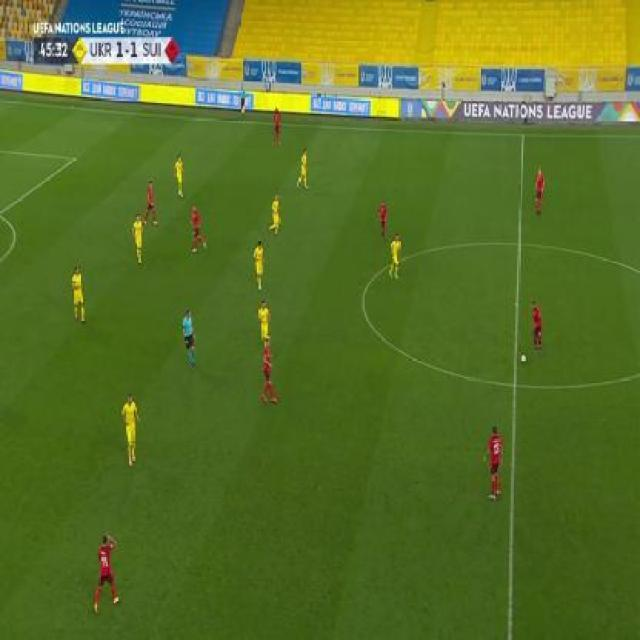ball: (520, 352, 526, 363)
player: (91, 532, 120, 614), (482, 423, 504, 500), (120, 390, 140, 469), (261, 337, 278, 406), (70, 263, 87, 325), (181, 307, 197, 369), (528, 298, 544, 354), (256, 300, 272, 353), (143, 178, 160, 227), (190, 203, 206, 254), (252, 239, 266, 290), (131, 212, 144, 265), (295, 146, 311, 189), (389, 232, 403, 280), (534, 167, 547, 216), (268, 192, 282, 237), (172, 153, 185, 198), (377, 198, 390, 241), (271, 105, 282, 147), (238, 82, 247, 119)
